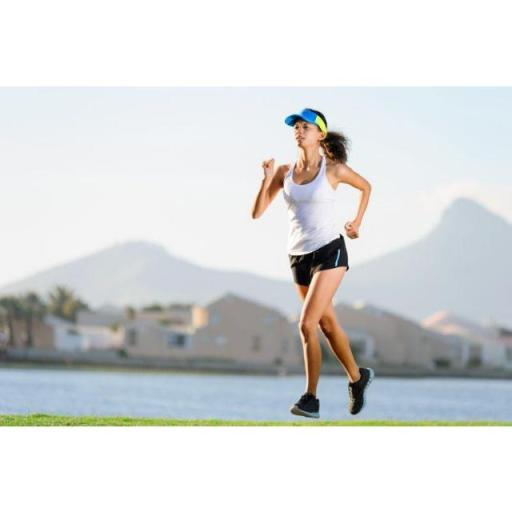Running: (248, 102, 378, 416)
